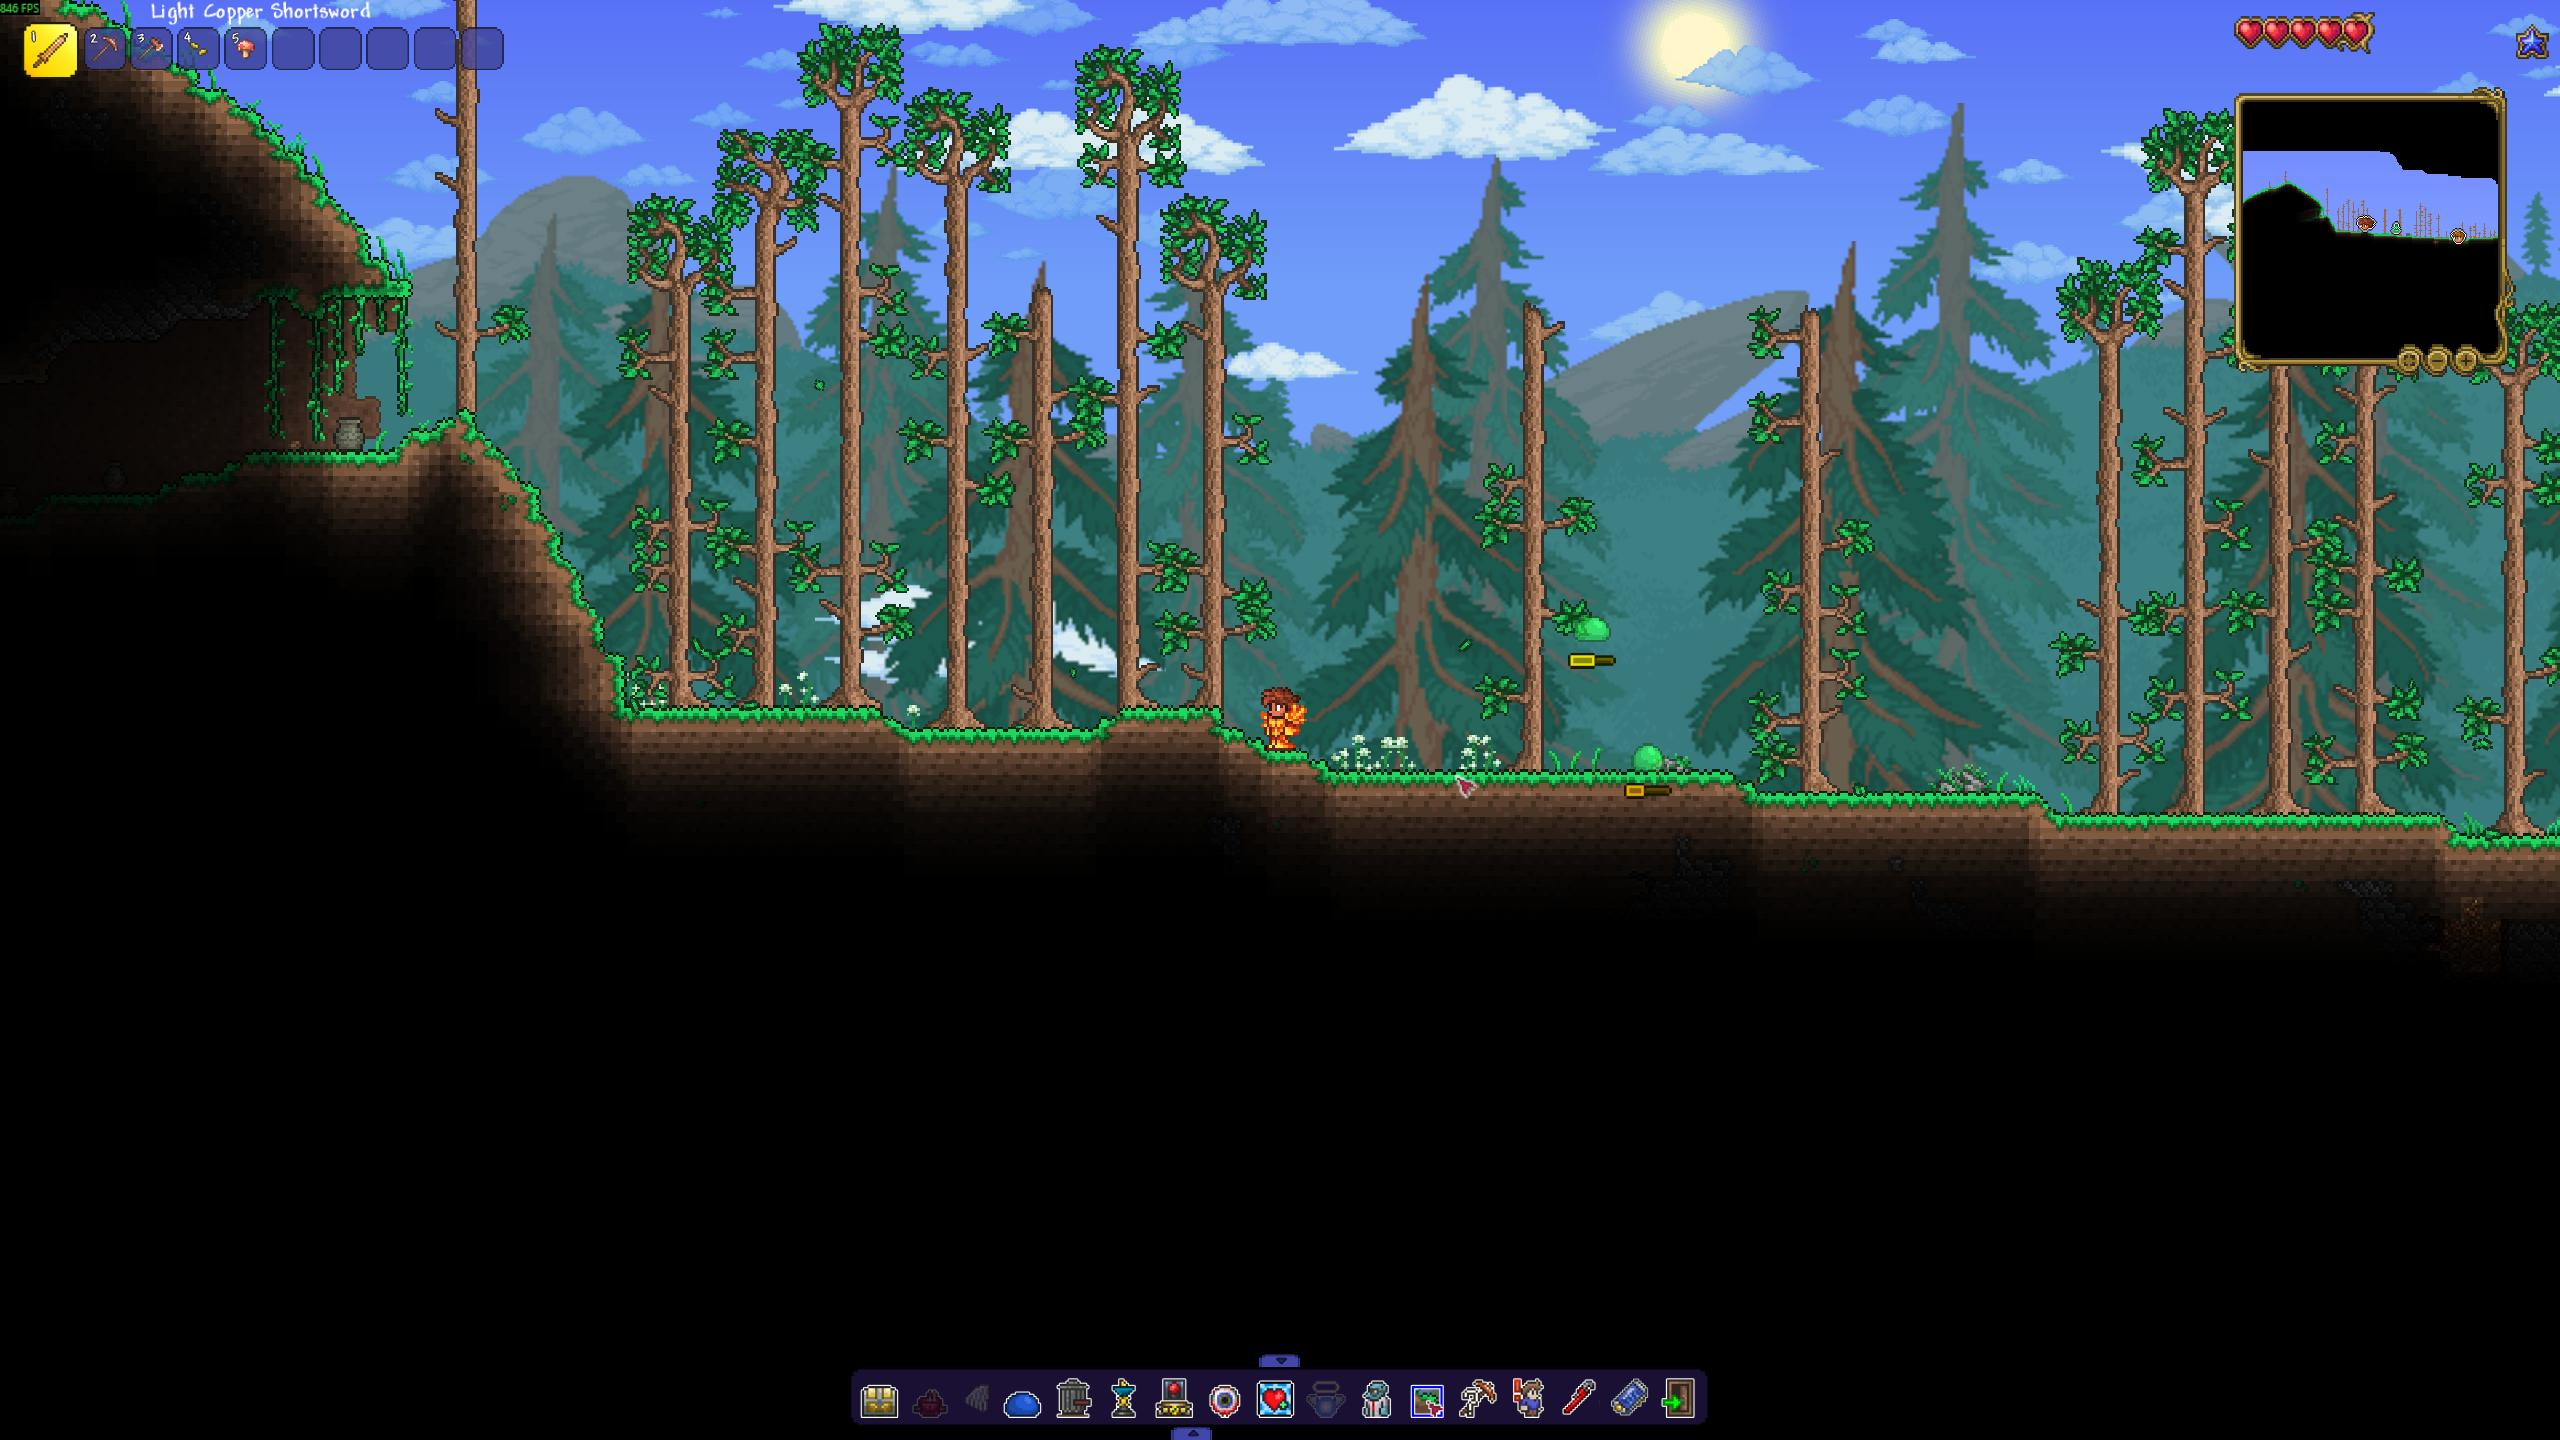Green Slime: (1628, 742, 1667, 774), (1574, 614, 1611, 645)
